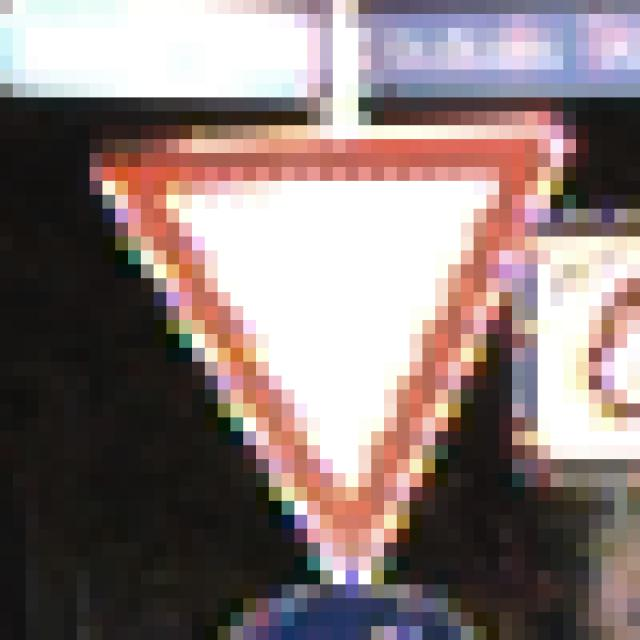Give Way: (78, 85, 564, 558)
